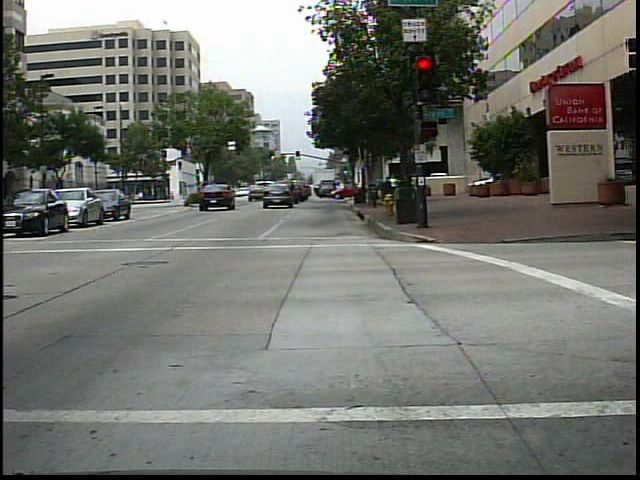person: (166, 188, 178, 204)
